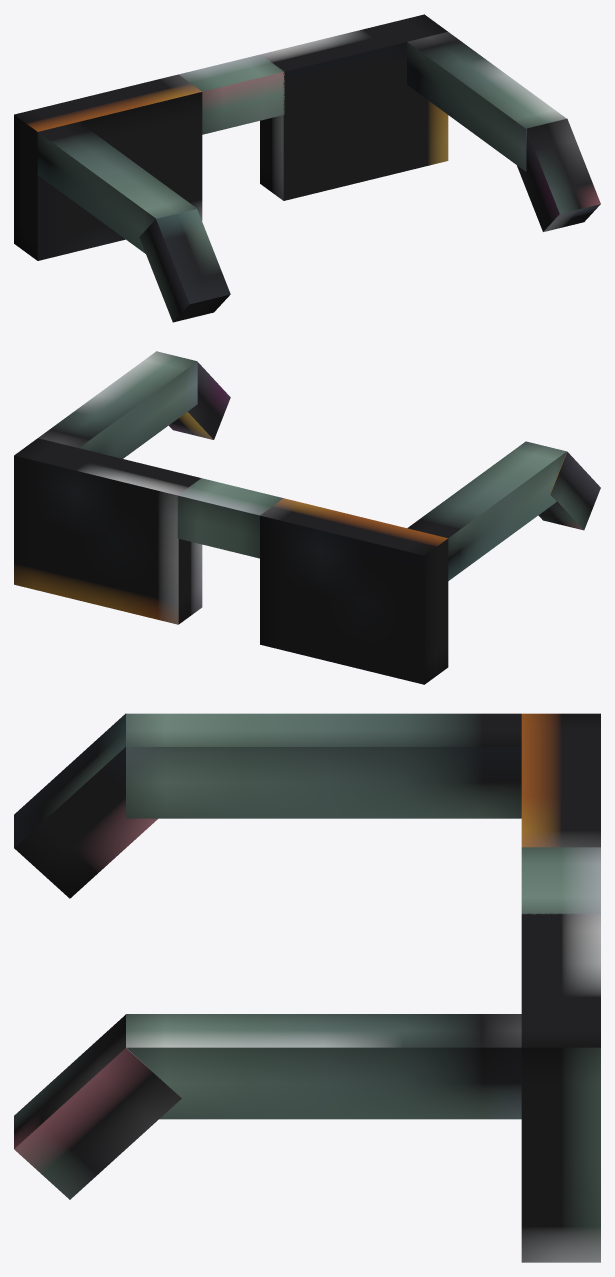
Rendered from shades.obj.
The picture shows the model from 3 angles, top to bottom: view 1: azimuth 30°, elevation 25°; view 2: azimuth 150°, elevation 25°; view 3: azimuth 270°, elevation 25°; orthographic projection. The views are drawn at different scales.
Visible parts, largest first — view 1: shades_part_4, shades_part_2, shades_part_5, shades_part_1, shades_part_0, shades_part_6, shades_part_3; view 2: shades_part_2, shades_part_4, shades_part_1, shades_part_5, shades_part_3, shades_part_0, shades_part_6; view 3: shades_part_1, shades_part_5, shades_part_4, shades_part_6, shades_part_0, shades_part_2, shades_part_3.
Boxes of the visible parts, box(x1,y1,x2,y2) form: shades_part_4: box(260, 14, 448, 200); shades_part_2: box(14, 74, 202, 260); shades_part_5: box(407, 32, 566, 171); shades_part_1: box(37, 122, 197, 253); shades_part_0: box(139, 209, 230, 322); shades_part_6: box(517, 118, 600, 231); shades_part_3: box(179, 54, 284, 134); shades_part_2: box(260, 498, 448, 684); shades_part_4: box(14, 438, 202, 624); shades_part_1: box(407, 441, 566, 580); shades_part_5: box(38, 351, 197, 458); shades_part_3: box(177, 478, 283, 558); shades_part_0: box(538, 451, 600, 530); shades_part_6: box(169, 362, 230, 439); shades_part_1: box(126, 713, 521, 818); shades_part_5: box(126, 1014, 521, 1119); shades_part_4: box(521, 913, 600, 1262); shades_part_6: box(14, 1014, 181, 1199); shades_part_0: box(14, 713, 157, 898); shades_part_2: box(521, 713, 600, 847); shades_part_3: box(521, 847, 600, 914).
Size of the model in its own units: 0.625 by 0.1875 by 0.4634.
1 material, 1 textured.
